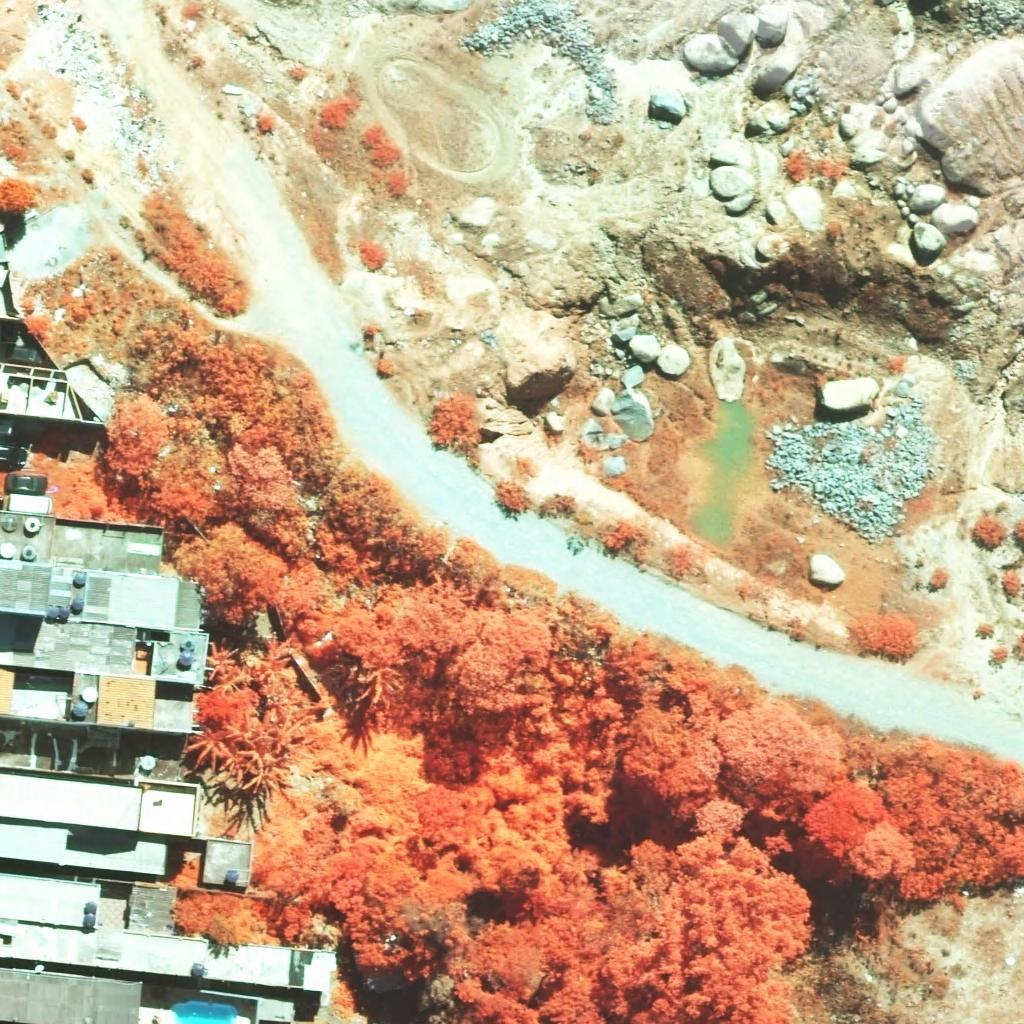pool: (172, 1001, 235, 1024)
